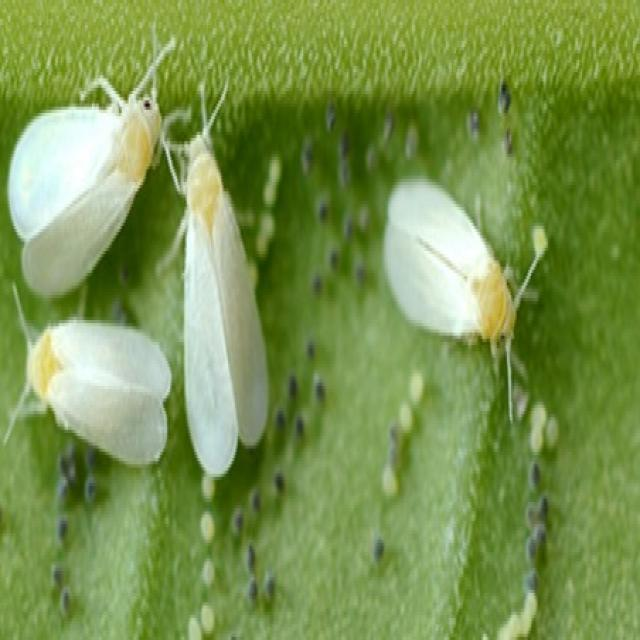Whitefly: (0, 45, 277, 497), (375, 153, 552, 467)
